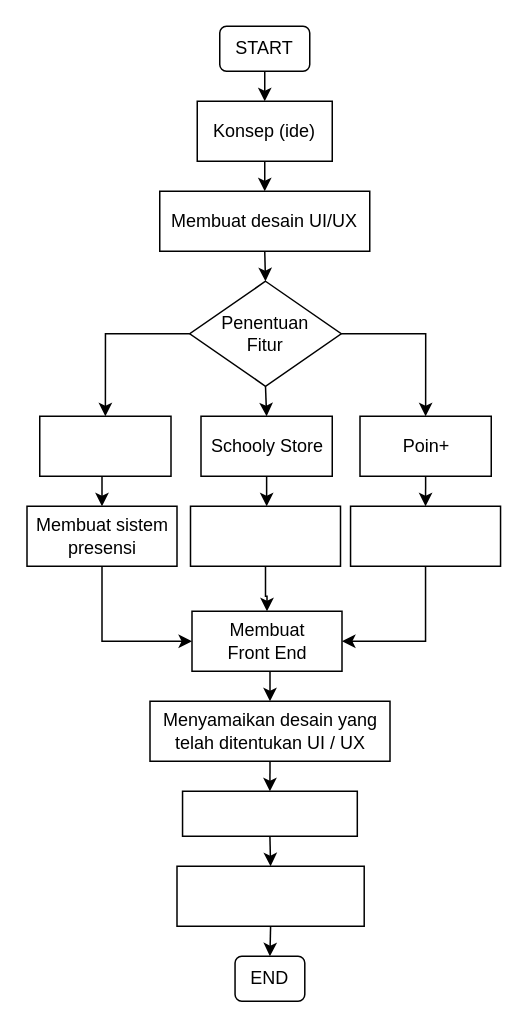
Image size: 527x1028. Some labels were removed from this diagram. The centre of each missing label's shape, as x and y in pixels:
Attendance: the point at 104,445
Melakukan deploy ke Server: the point at 270,895
Membuat sistem penilaian: the point at 425,535
Membuat sistem penjualan online: the point at 264,535
Menyiapkan server: the point at 269,813
